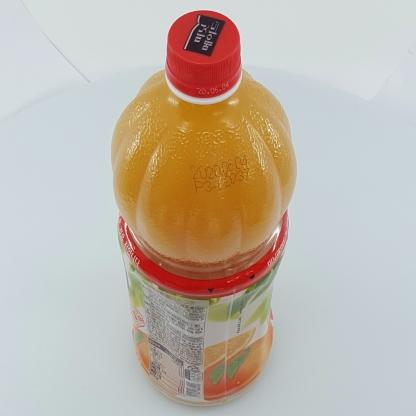------------1-5L: (112, 10, 298, 406)
